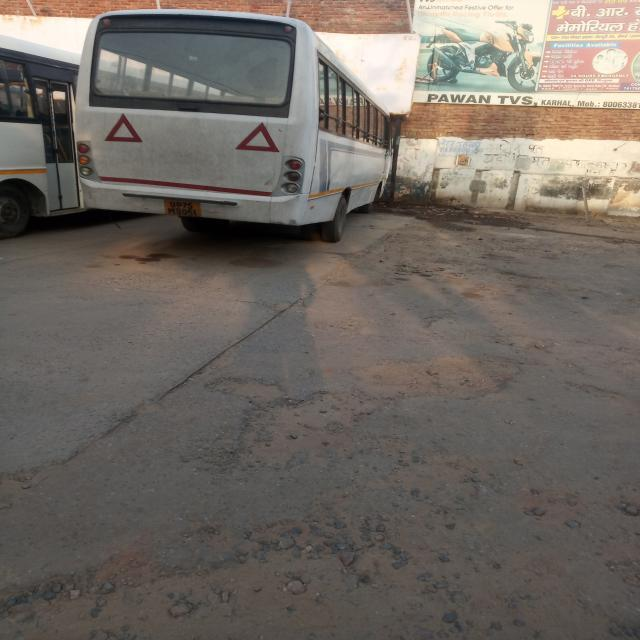Bus: (79, 8, 398, 260)
